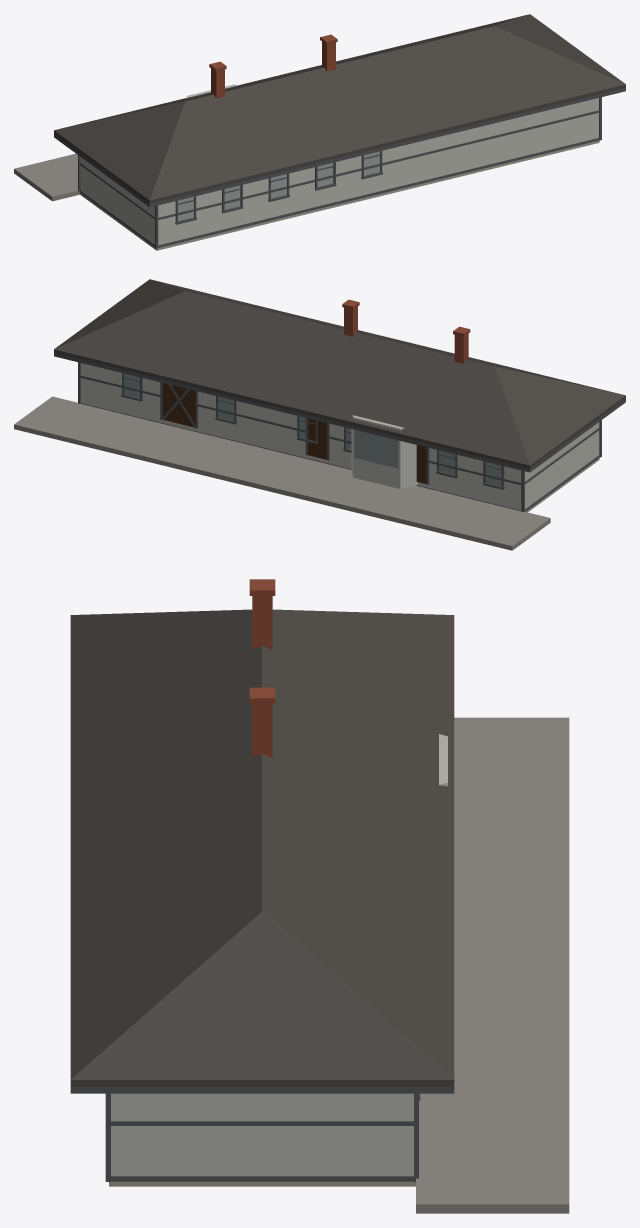
File: Springfield_Depot.glb
The picture shows the model from 3 angles, top to bottom: view 1: azimuth 30°, elevation 25°; view 2: azimuth 150°, elevation 25°; view 3: azimuth 270°, elevation 25°; orthographic projection. The views are drawn at different scales.
Parts seen in each view (by area): view 1: roof, walls, trim, platform, foundation, glass, sash, chimney; view 2: roof, platform, walls, trim, glass, doors, sash, chimney; view 3: roof, platform, walls, trim, chimney, foundation.
Part boxes in pixels (x1,y1,x2,y2): roof: [54, 14, 625, 203]; walls: [80, 84, 598, 245]; trim: [54, 88, 625, 248]; platform: [14, 153, 79, 201]; foundation: [80, 140, 599, 250]; glass: [178, 152, 379, 221]; sash: [175, 151, 382, 224]; chimney: [209, 34, 337, 98]; roof: [54, 279, 625, 468]; platform: [14, 396, 550, 550]; walls: [81, 363, 599, 509]; trim: [54, 353, 625, 511]; glass: [124, 374, 501, 486]; doors: [162, 383, 426, 483]; sash: [121, 373, 504, 489]; chimney: [342, 299, 470, 363]; roof: [70, 609, 454, 1086]; platform: [416, 717, 569, 1213]; walls: [111, 734, 447, 1175]; trim: [70, 1086, 454, 1181]; chimney: [249, 579, 275, 758]; foundation: [109, 1181, 415, 1186].
Bounding box in the file's own units: 0.9459 × 0.2417 × 0.4099.
